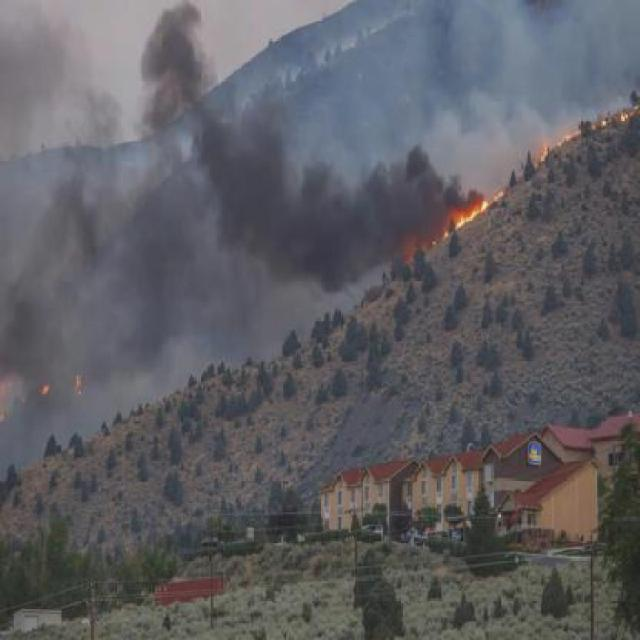Fire: (456, 190, 504, 228), (619, 100, 638, 120), (562, 125, 582, 142), (535, 142, 548, 164), (41, 384, 50, 398), (75, 372, 80, 390), (602, 114, 608, 128), (442, 228, 448, 238)
